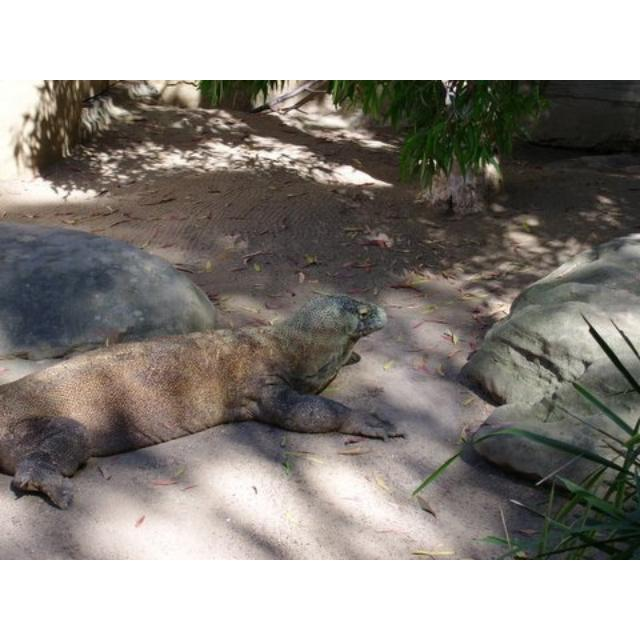KomodoDragon: (0, 288, 416, 502)
